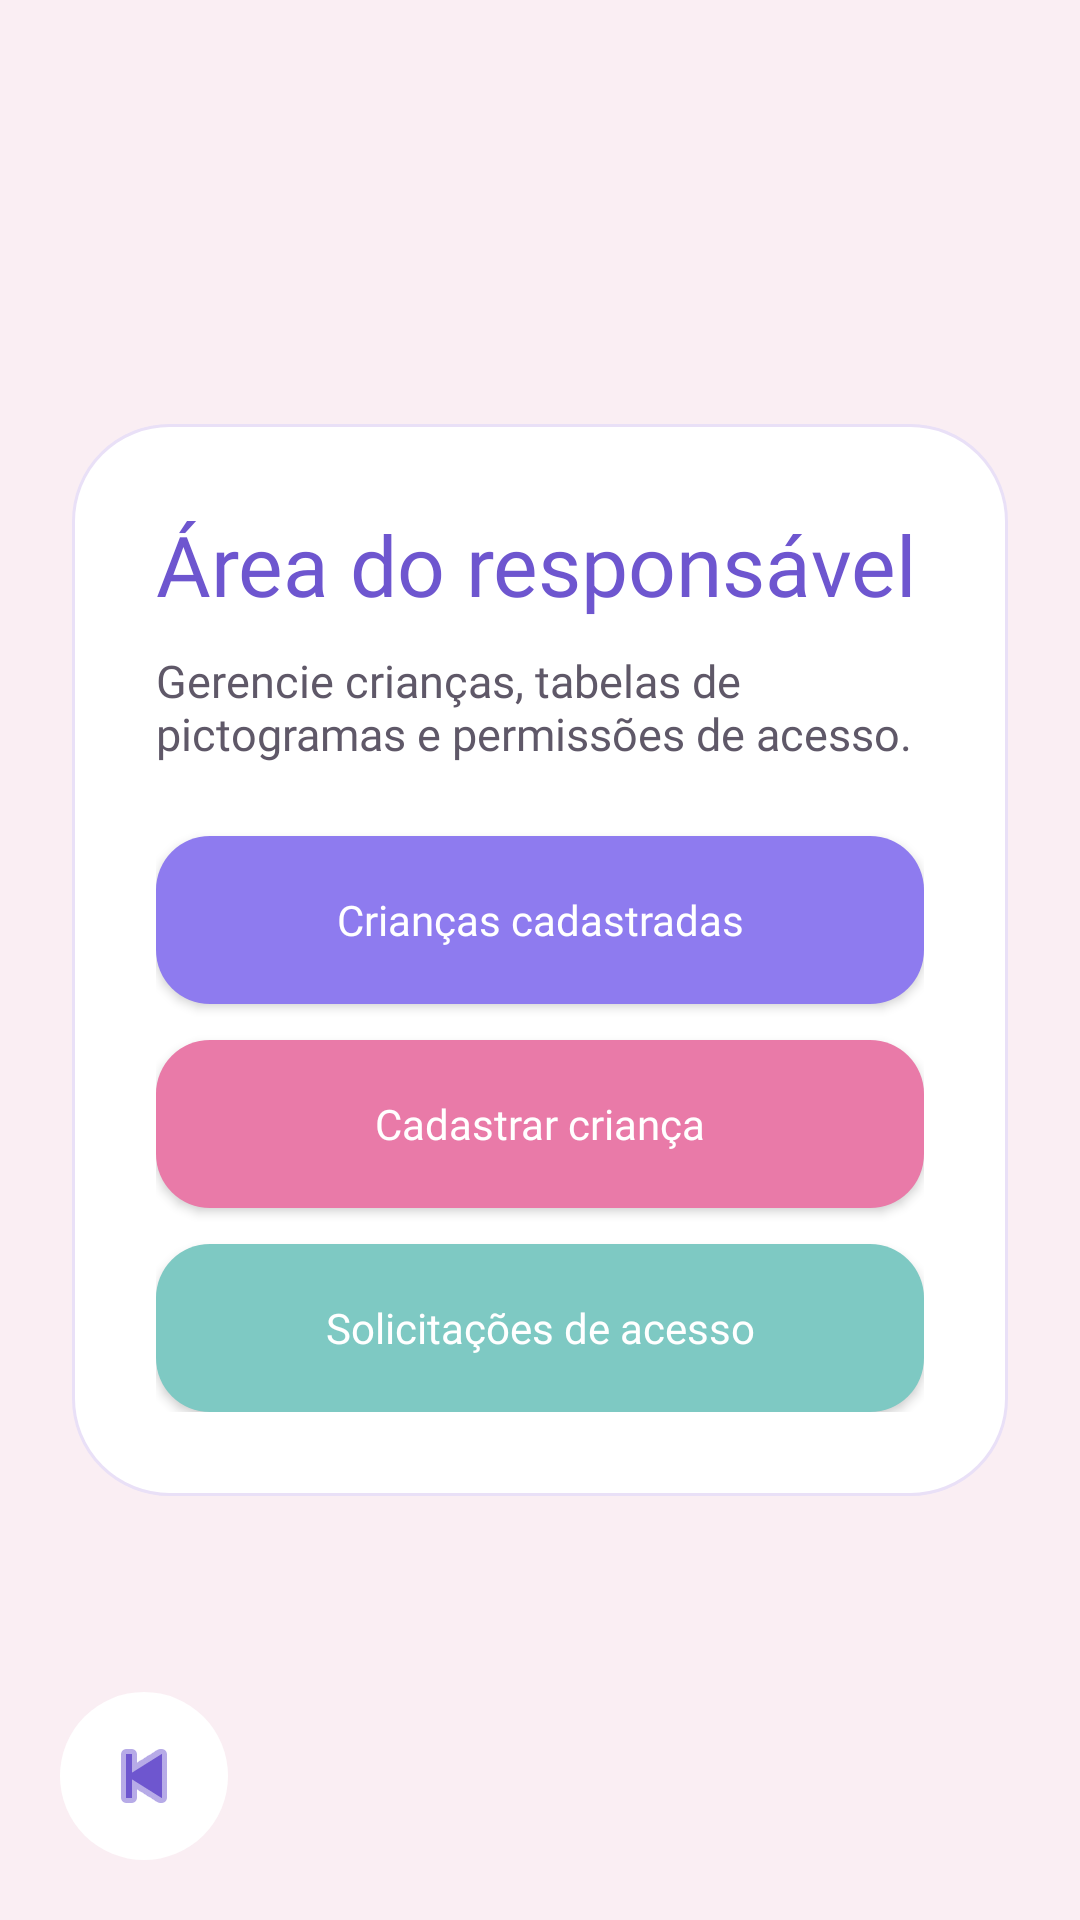

Icons on this 1080px×1920px Android screen, each with its box as (x1, y1, x2, y2):
previous: (121, 1749, 167, 1803)
